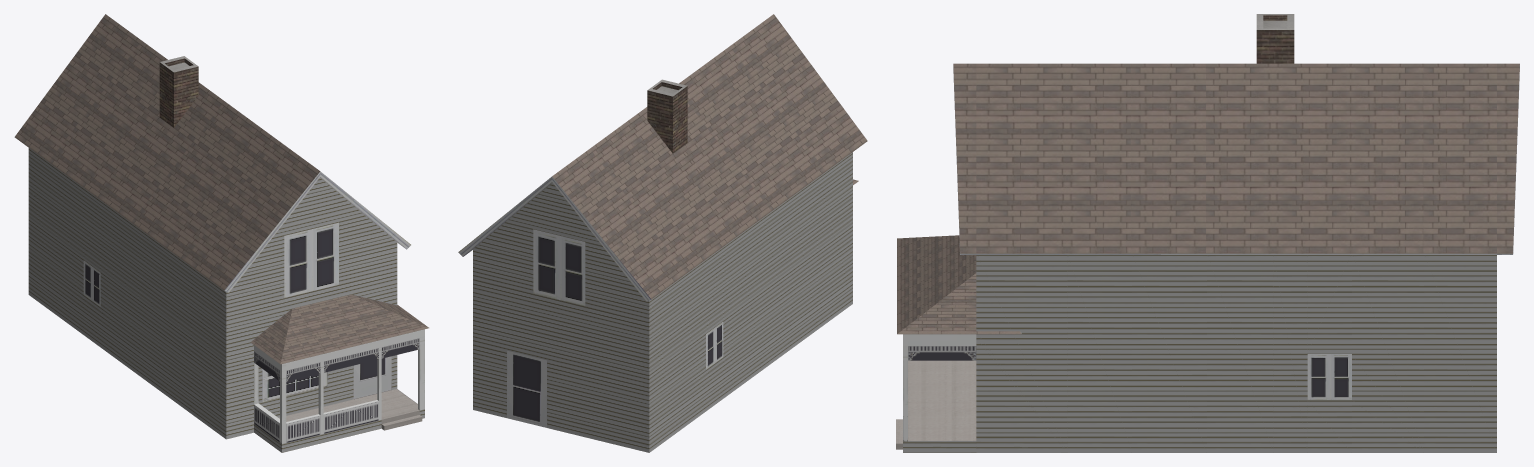
Rendered from farmhouse.fbx.
The picture shows the model from 3 angles, left to right: view 1: azimuth 30°, elevation 25°; view 2: azimuth 150°, elevation 25°; view 3: azimuth 270°, elevation 25°; orthographic projection. The views are drawn at different scales.
Visible parts, largest first — view 1: Cube.001; view 2: Cube.001; view 3: Cube.001.
Boxes of the visible parts, x1,y1,x2,y2 form: Cube.001: [14, 14, 428, 452]; Cube.001: [458, 14, 867, 452]; Cube.001: [896, 14, 1519, 452].
Size of the model in its own units: 54791 by 77111 by 119845.
1 material, 1 textured.
